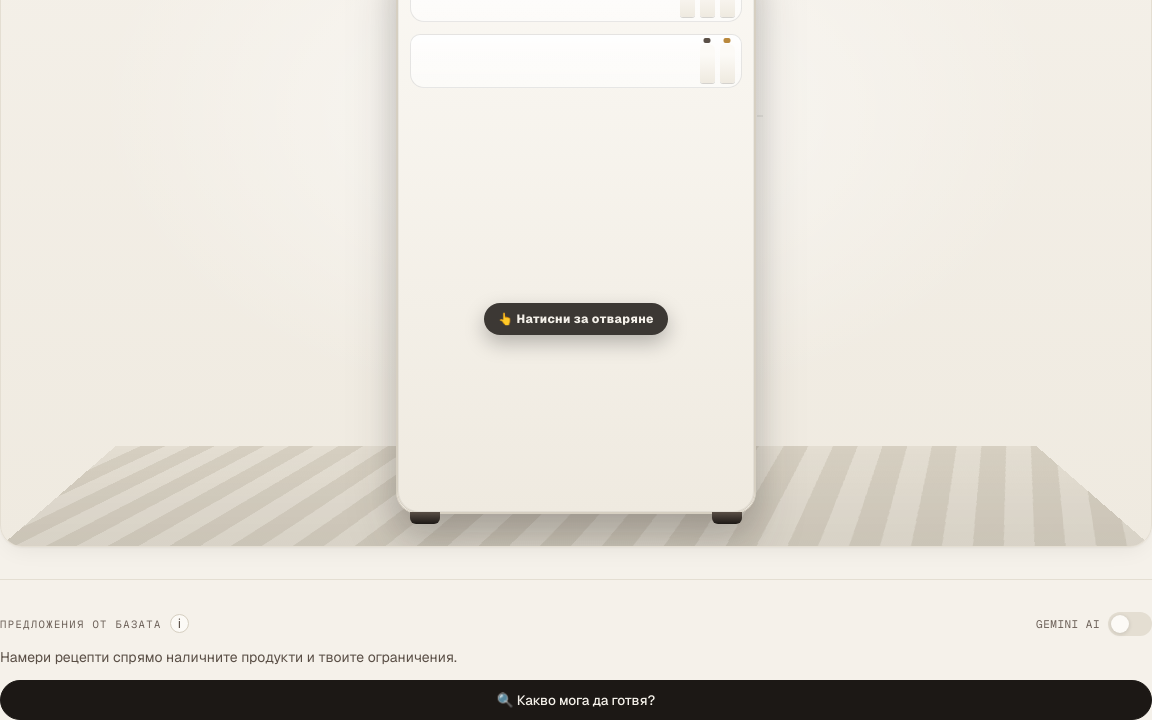
Test case: FridgeScreen – Try different suggestions button › does not show the button when Gemini returns no results
The image size is (1152, 720).
(page scrolled)
What coordinates should you click on to do the following:
click the checkbox
I would click on:
 (1130, 624)
Its box is [1108,612,1151,636].
(page scrolled)
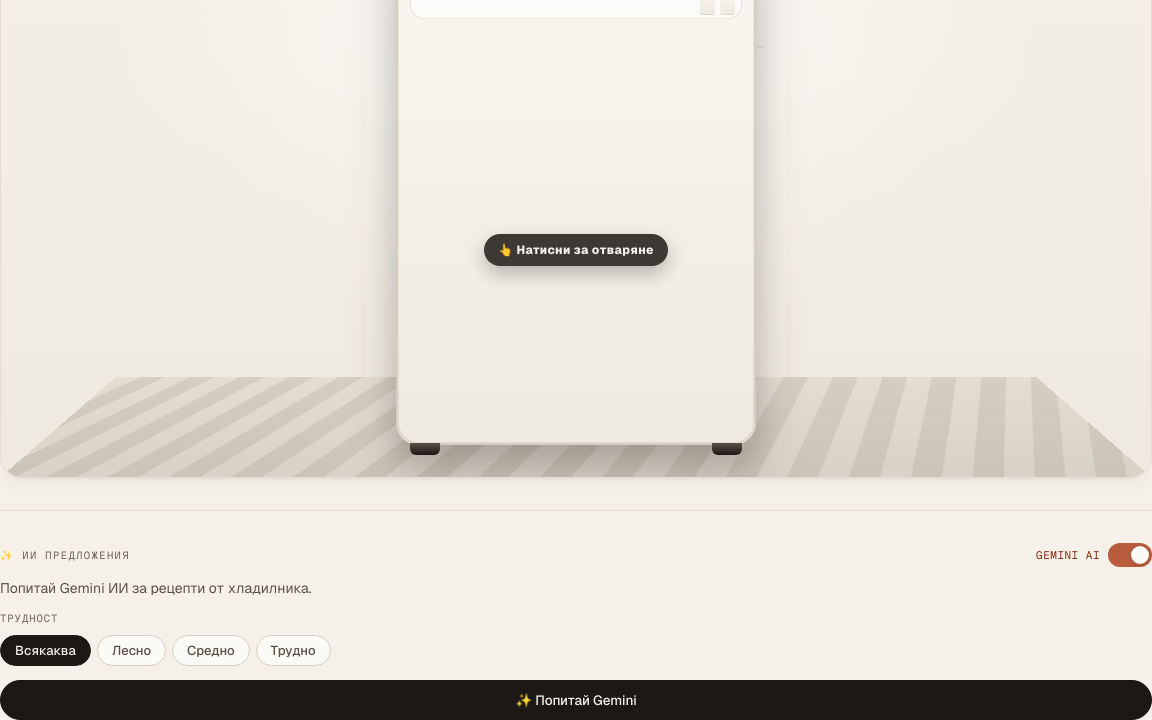
What coordinates should you click on to do the following:
click the button "✨ Попитай Gemini"
I would click on:
 (576, 700)
Its box is [0,680,1151,719].
(page scrolled)
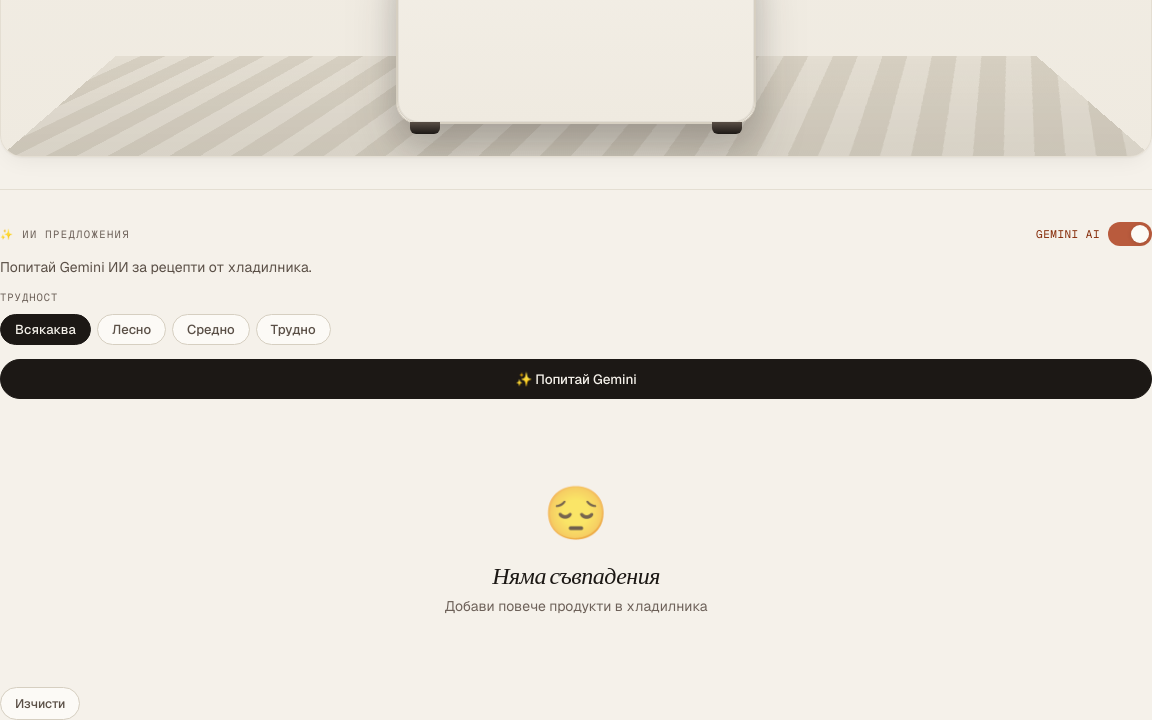
Now the text "Няма съвпадения" is shown, box [492,560,660,591]
